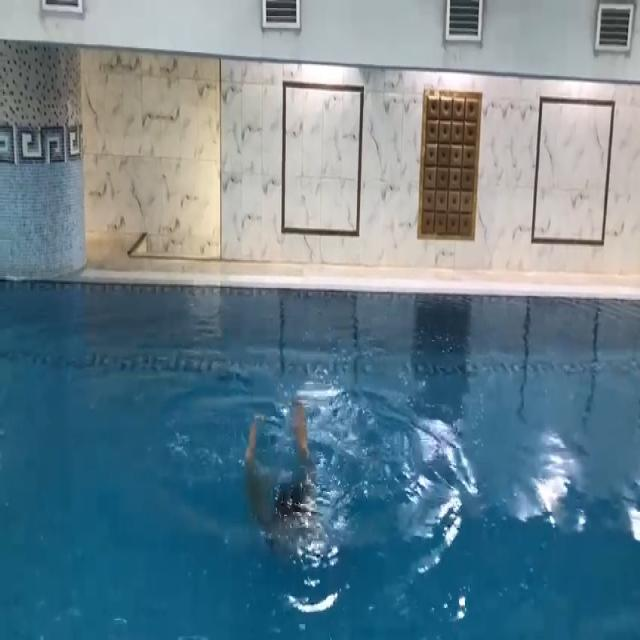Drowning: (239, 403, 326, 560)
